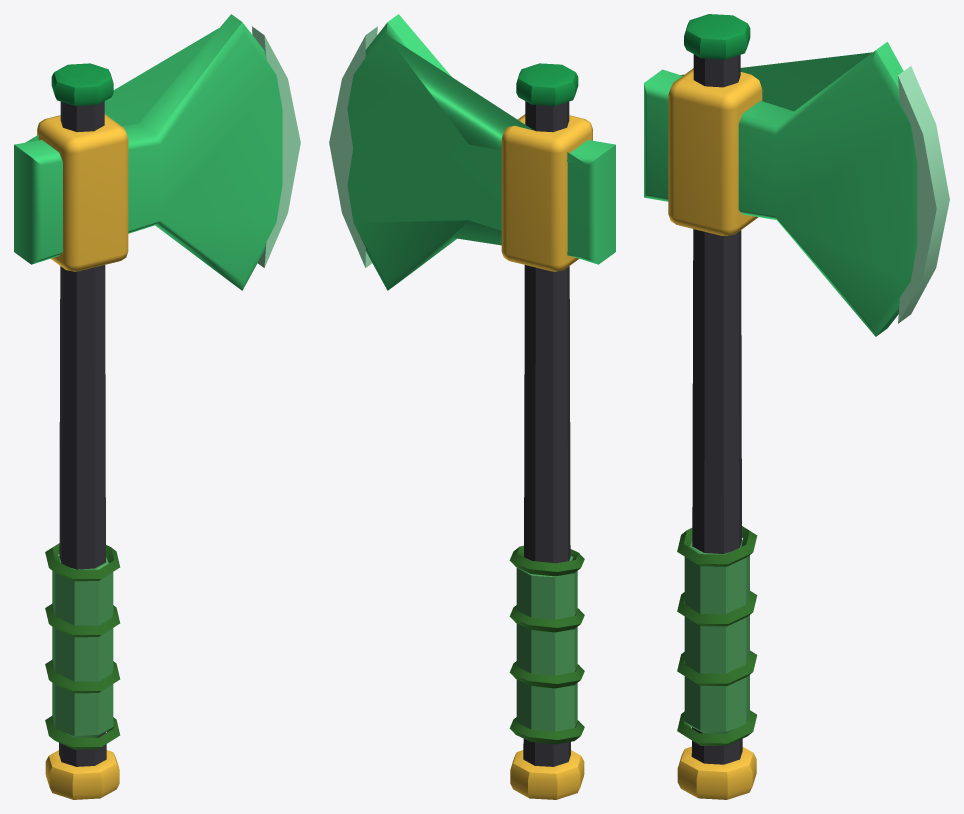
The model's file is EmeraldAxe.fbx.
3 renders of one model, left to right at view 1: azimuth 30°, elevation 25°; view 2: azimuth 150°, elevation 25°; view 3: azimuth 330°, elevation 25°, orthographic. The views are drawn at different scales.
Parts seen in each view (by area): view 1: EmeraldAxe; view 2: EmeraldAxe; view 3: EmeraldAxe.
Boxes of the visible parts, x1,y1,x2,y2 form: EmeraldAxe: (14, 14, 300, 799); EmeraldAxe: (329, 14, 615, 799); EmeraldAxe: (644, 14, 949, 799).
Bounding box in the file's own units: 1.27 × 3.27 × 0.3129.
1 material, 1 textured.
